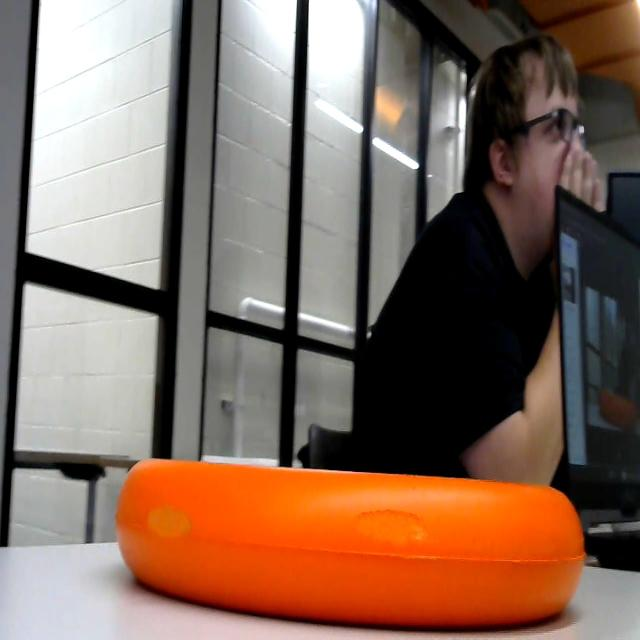note: (116, 449, 591, 633)
